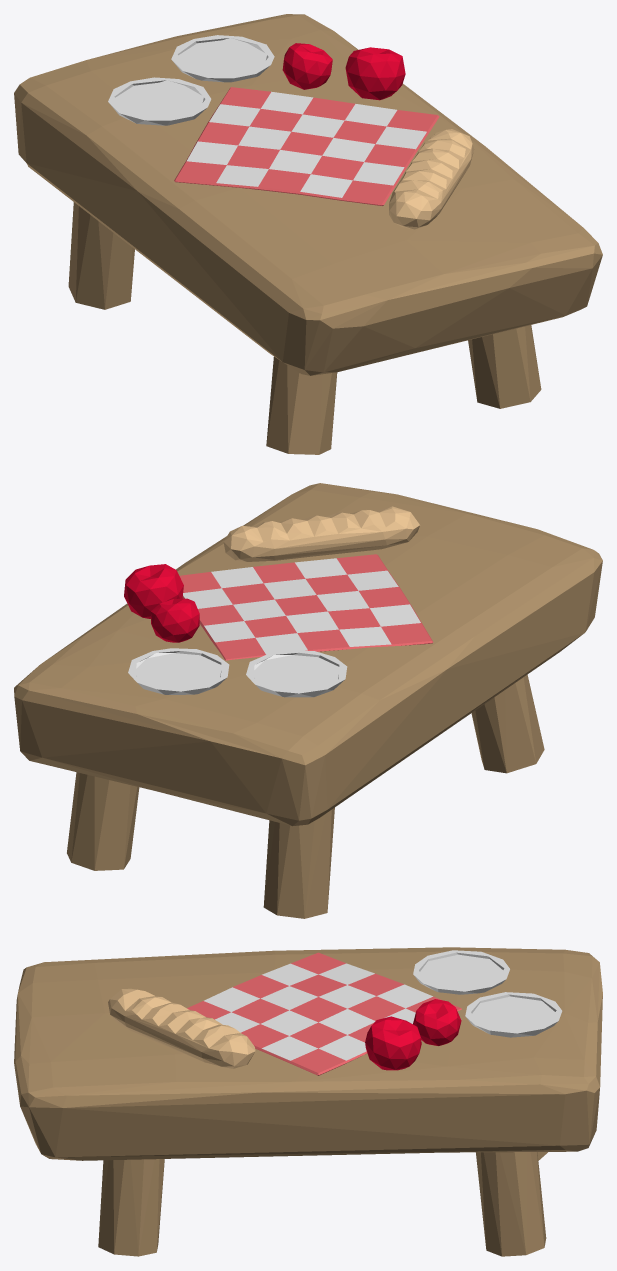
The model's file is mesa.fbx.
3 views of the same model, one above another, from view 1: azimuth 30°, elevation 25°; view 2: azimuth 150°, elevation 25°; view 3: azimuth 270°, elevation 25° (orthographic). The views are drawn at different scales.
Visible parts, largest first — view 1: Cube; view 2: Cube; view 3: Cube.
Boxes of the visible parts, x1,y1,x2,y2 form: Cube: (14, 14, 602, 454); Cube: (14, 483, 602, 918); Cube: (14, 947, 602, 1256).
Bounding box in the file's own units: 477 × 363 × 838.
